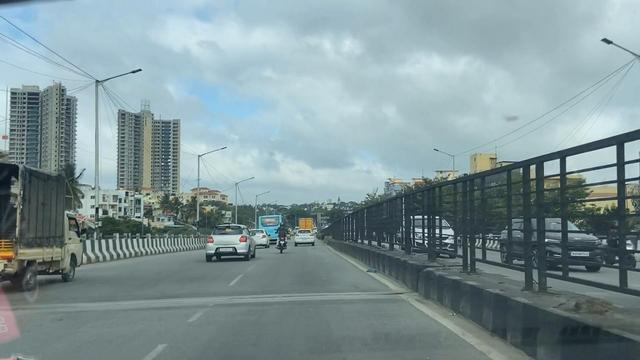HMV: (0, 158, 118, 297), (253, 203, 288, 253)
LMV: (205, 209, 257, 266), (269, 208, 296, 262), (288, 220, 320, 252), (248, 228, 272, 249)
